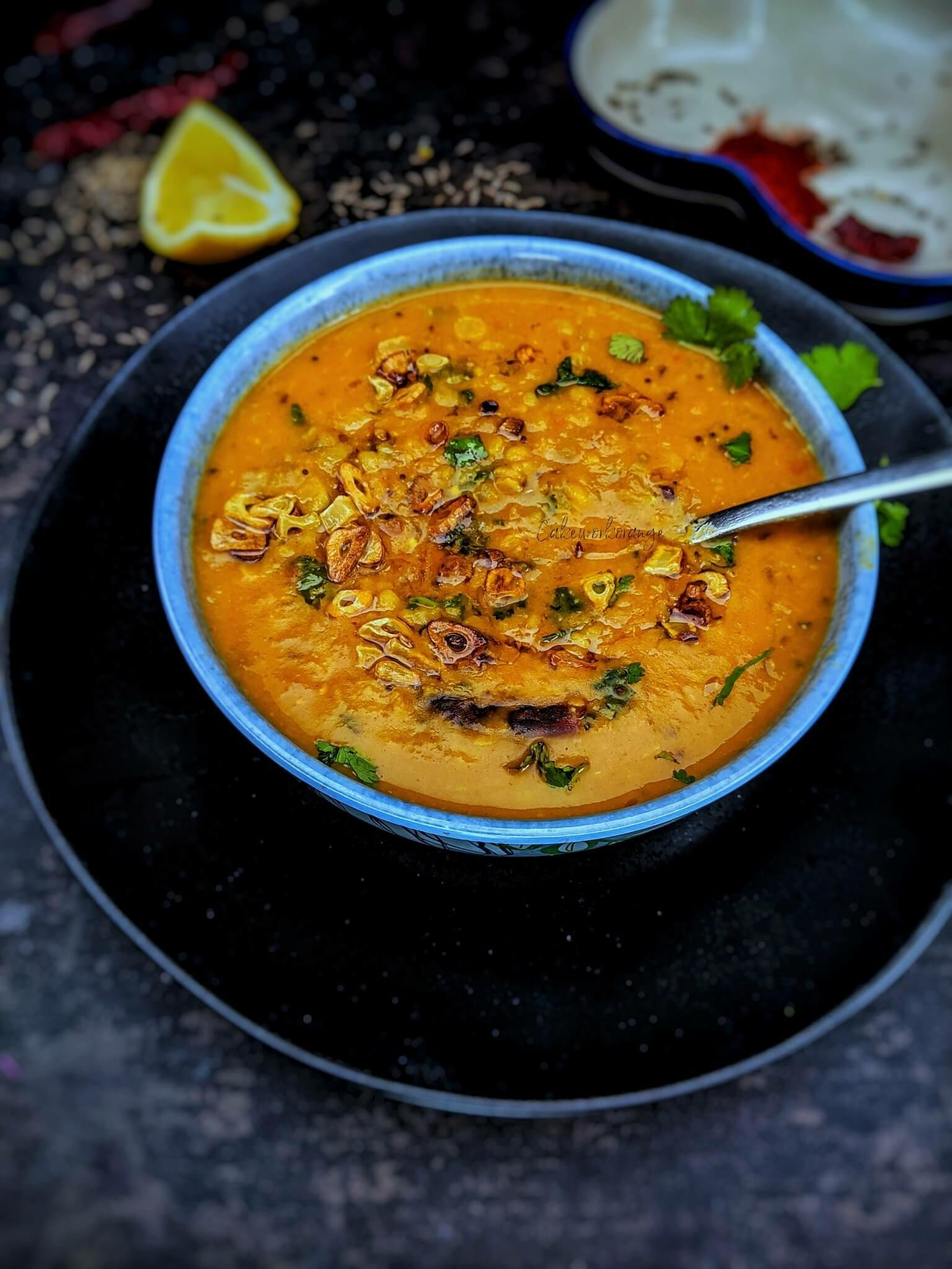Dal: (196, 283, 841, 817)
